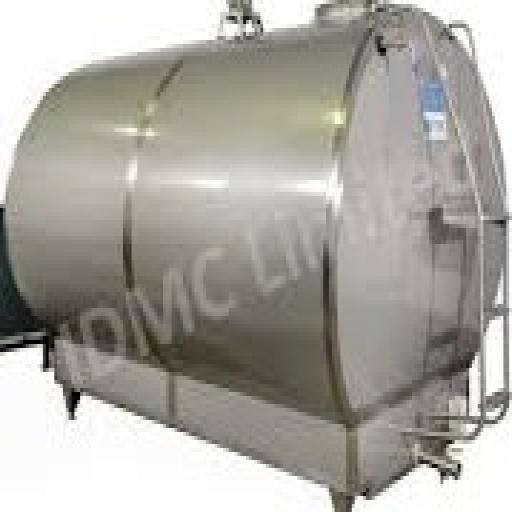silo: (5, 4, 509, 496)
